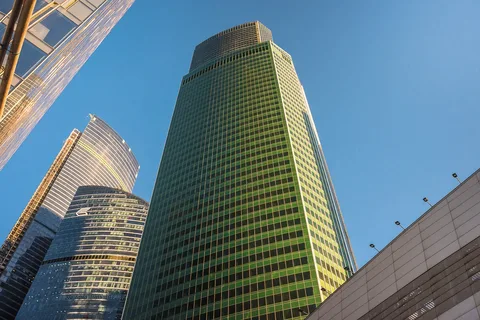high_rise_building: (165, 21, 323, 300)
